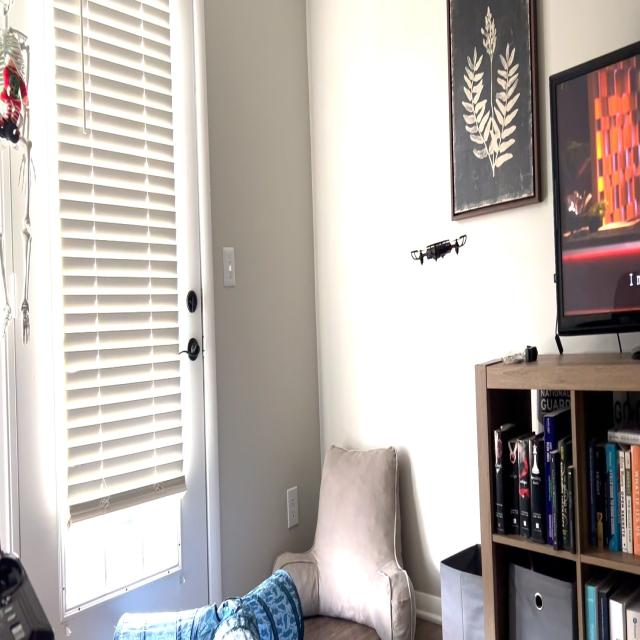drone: (404, 226, 474, 272)
